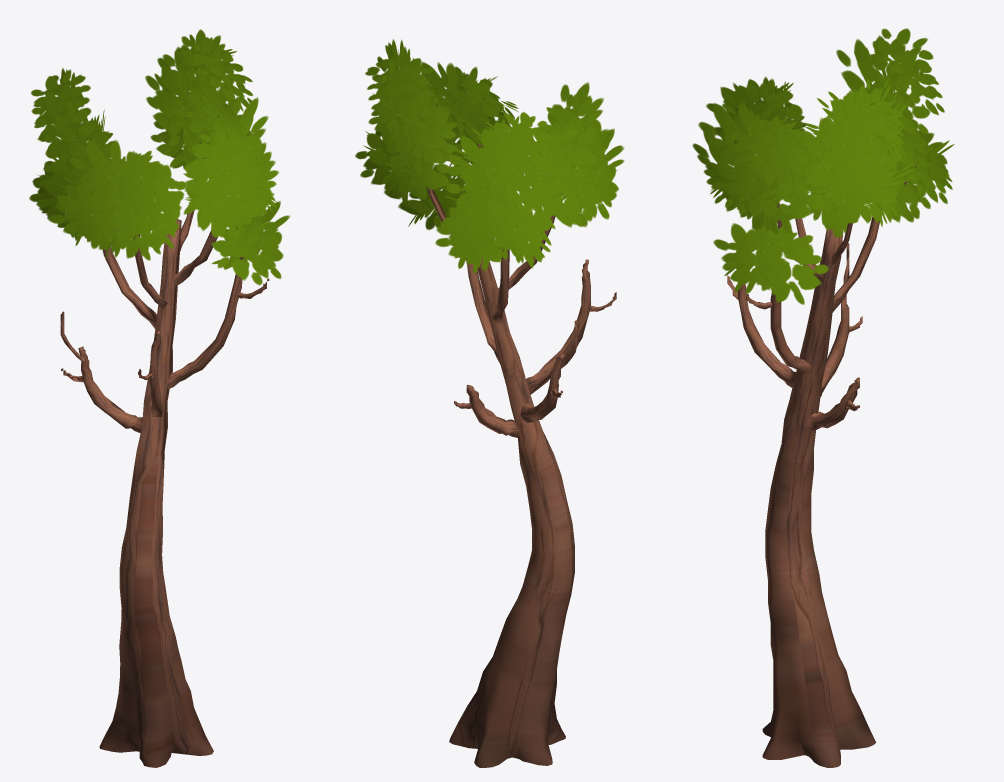
File: tree_oak3.glb
The picture shows the model from 3 angles, left to right: view 1: azimuth 30°, elevation 25°; view 2: azimuth 150°, elevation 25°; view 3: azimuth 270°, elevation 25°; orthographic projection. The views are drawn at different scales.
Parts seen in each view (by area): view 1: CommonTree_4; view 2: CommonTree_4; view 3: CommonTree_4.
Boxes of the visible parts, <box> form: CommonTree_4: <box>29,29,290,767</box>; CommonTree_4: <box>355,39,624,767</box>; CommonTree_4: <box>692,28,954,767</box>.
Bounding box in the file's own units: 3.83 × 9.44 × 3.75.
2 materials, 2 textured.
